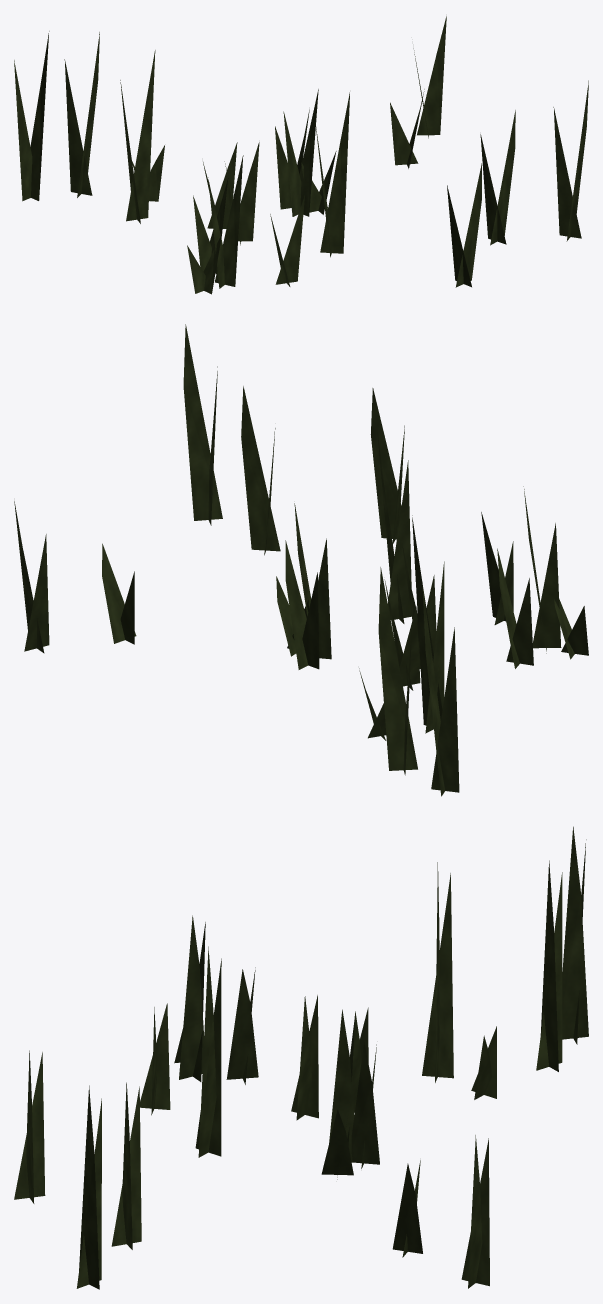
Rendered from Grass_Patch_01.glb.
3 views of the same model, one above another, from view 1: azimuth 30°, elevation 25°; view 2: azimuth 150°, elevation 25°; view 3: azimuth 270°, elevation 25° (orthographic). The views are drawn at different scales.
Visible parts, largest first — view 1: Grass_Patch_01; view 2: Grass_Patch_01; view 3: Grass_Patch_01.
Boxes of the visible parts, x1=… form: Grass_Patch_01: x1=14, y1=16, x2=588, y2=294; Grass_Patch_01: x1=14, y1=324, x2=588, y2=796; Grass_Patch_01: x1=14, y1=826, x2=588, y2=1289.
Bounding box in the file's own units: 0.9704 × 0.3921 × 0.8841.
Materials: 1 (1 with a texture image).
